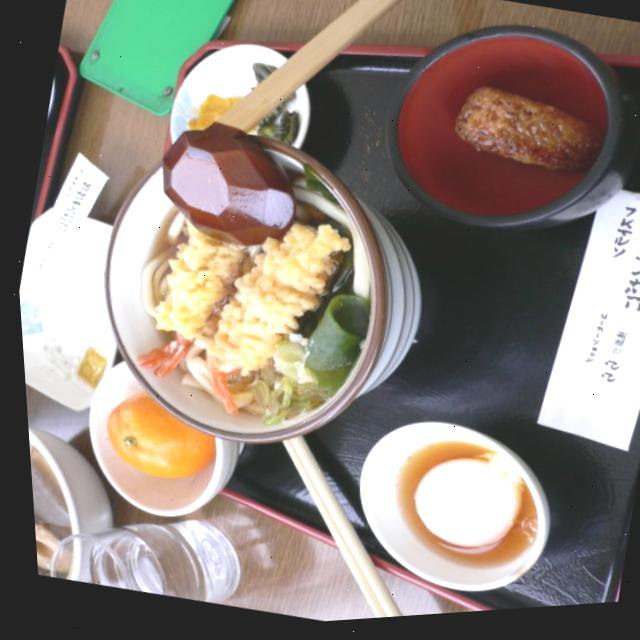面条主食: (84, 132, 399, 450)
